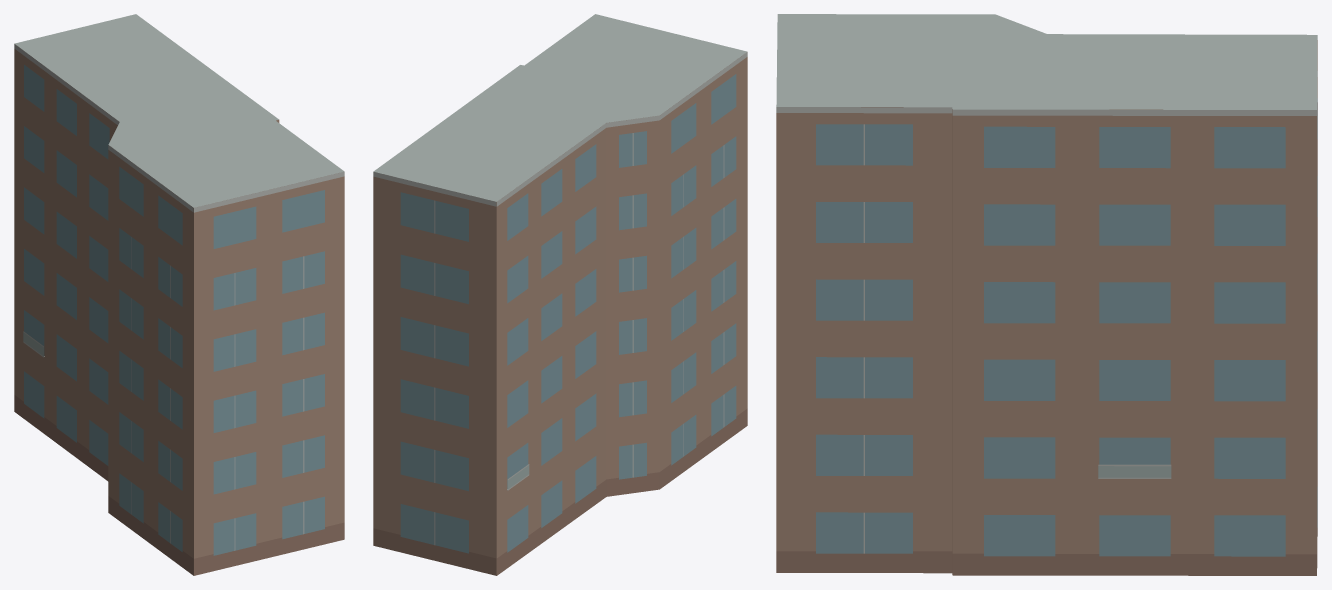
File: survey-upis-32737792.glb
The picture shows the model from 3 angles, left to right: view 1: azimuth 30°, elevation 25°; view 2: azimuth 150°, elevation 25°; view 3: azimuth 270°, elevation 25°; orthographic projection. The views are drawn at different scales.
Parts seen in each view (by area): view 1: survey-upis-32737792.tmp; view 2: survey-upis-32737792.tmp; view 3: survey-upis-32737792.tmp.
Part boxes in pixels (x1=…): survey-upis-32737792.tmp: x1=14, y1=14, x2=344, y2=575; survey-upis-32737792.tmp: x1=373, y1=14, x2=747, y2=575; survey-upis-32737792.tmp: x1=776, y1=14, x2=1317, y2=575.
Bounding box in the file's own units: 8.27 × 18.65 × 19.64.
